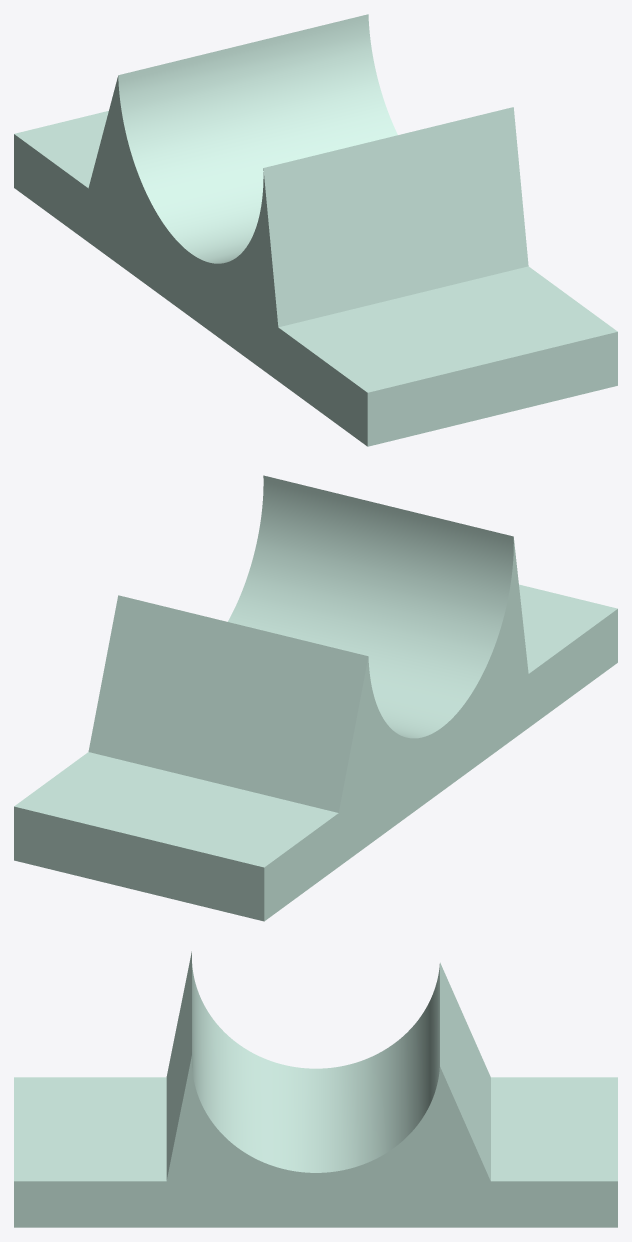
3 renders of one model, top to bottom at view 1: azimuth 30°, elevation 25°; view 2: azimuth 150°, elevation 25°; view 3: azimuth 270°, elevation 25°, orthographic. The views are drawn at different scales.
Visible parts, largest first — view 1: Renderer Node; view 2: Renderer Node; view 3: Renderer Node.
Boxes of the visible parts, <box> form: Renderer Node: <box>14,14,617,446</box>; Renderer Node: <box>14,475,617,921</box>; Renderer Node: <box>14,951,617,1227</box>.
Bounding box in the file's own units: 0.5234 × 0.4046 × 1.28.
